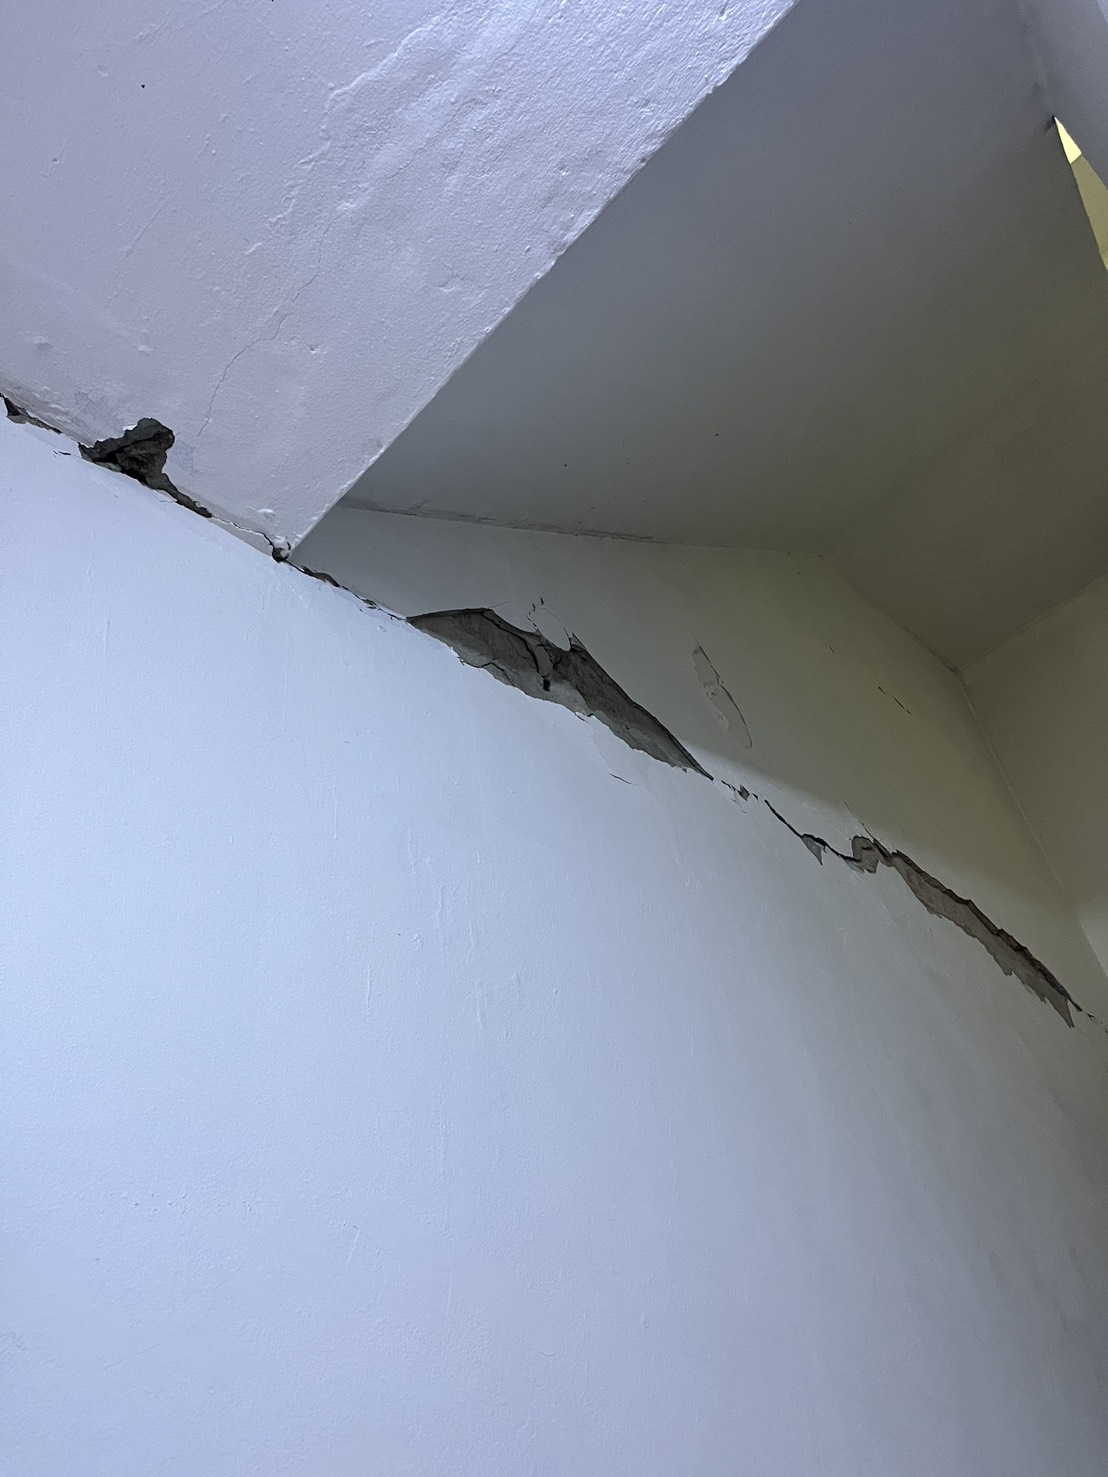Medium: (383, 573, 1063, 1014)
